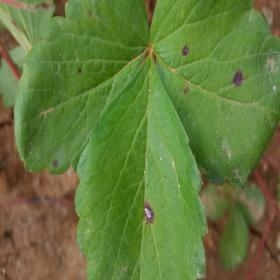Leaf Spot: (74, 52, 209, 279), (149, 0, 279, 189), (14, 0, 151, 176), (200, 181, 236, 222)
